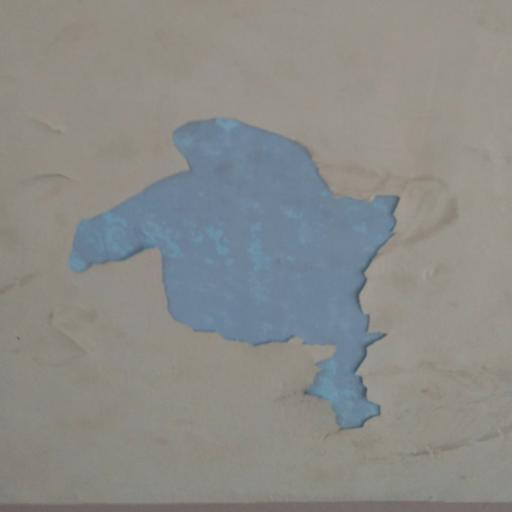peeling: (67, 96, 409, 438)
